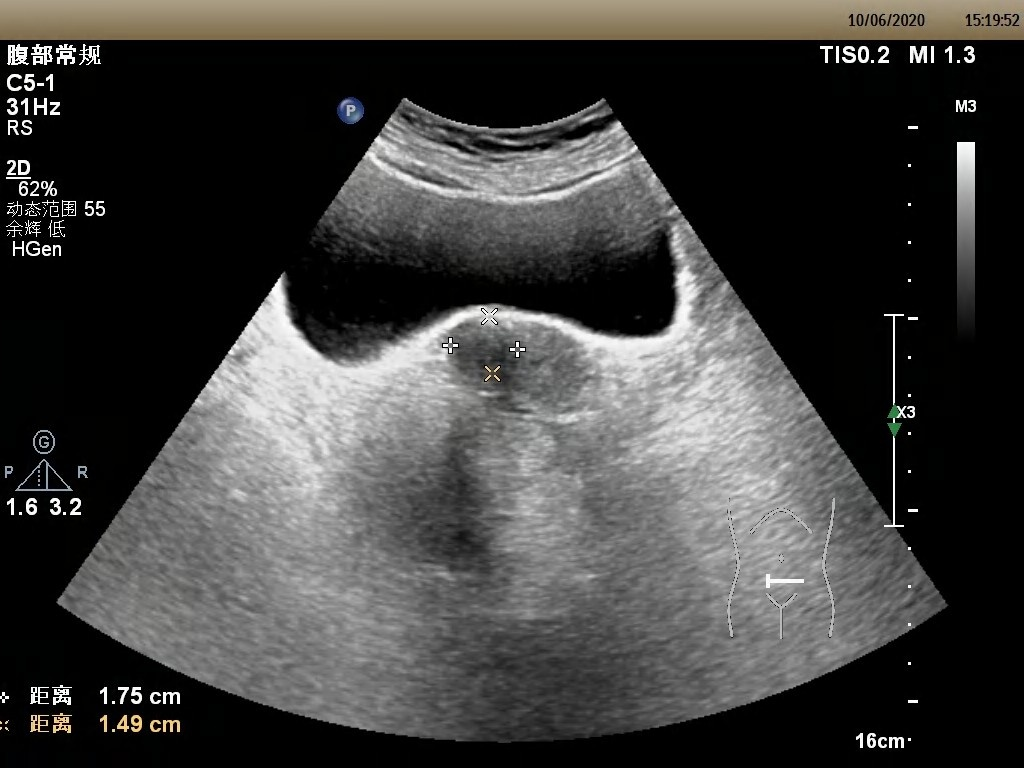肌瘤: (446, 321, 516, 382)
